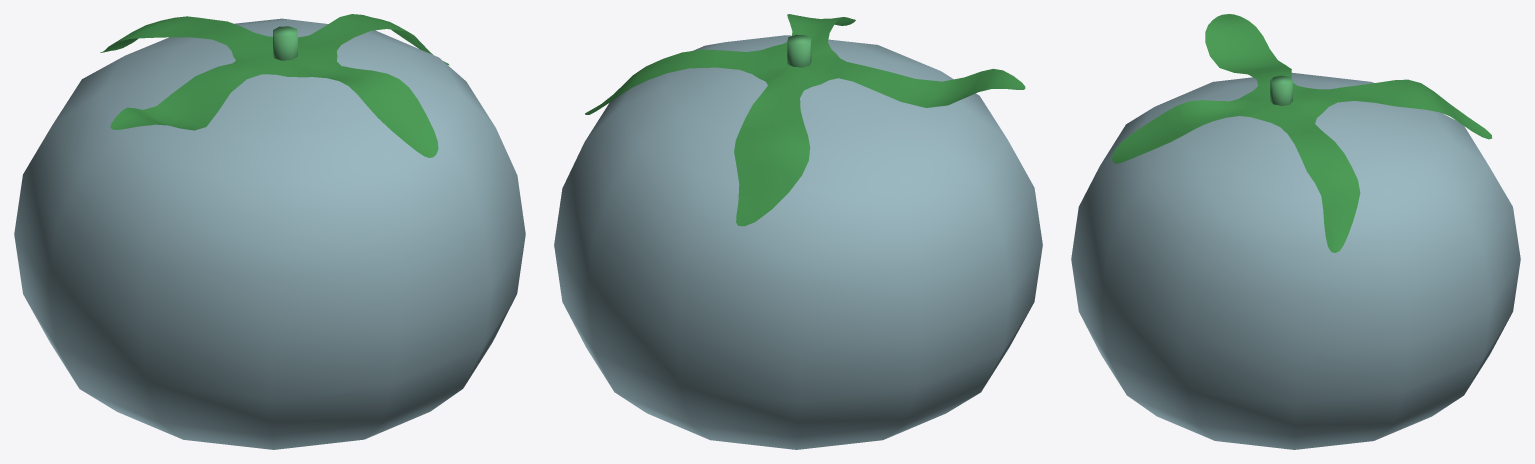
File: tomato_tier3.glb
3 renders of one model, left to right at view 1: azimuth 30°, elevation 25°; view 2: azimuth 150°, elevation 25°; view 3: azimuth 270°, elevation 25°, orthographic. The views are drawn at different scales.
Visible parts, largest first — view 1: Sphere.004, Sphere.002, Cylinder.002; view 2: Sphere.004, Sphere.002, Cylinder.002; view 3: Sphere.004, Sphere.002, Cylinder.002.
Boxes of the visible parts, <box> form: Sphere.004: <box>14,18,525,449</box>; Sphere.002: <box>100,14,449,157</box>; Cylinder.002: <box>273,26,297,60</box>; Sphere.004: <box>554,35,1042,449</box>; Sphere.002: <box>585,14,1025,226</box>; Cylinder.002: <box>787,34,811,67</box>; Sphere.004: <box>1071,72,1520,449</box>; Sphere.002: <box>1112,14,1492,252</box>; Cylinder.002: <box>1270,75,1292,105</box>.
Bounding box in the file's own units: 2.58 × 2.16 × 2.58.
